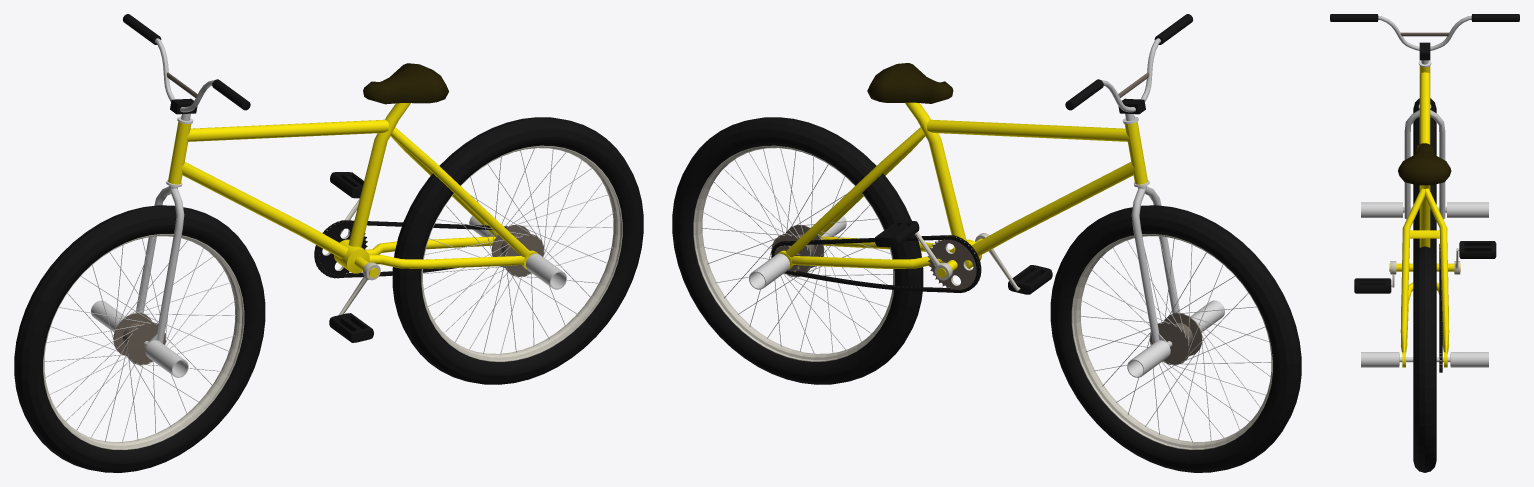
Rendered from xedap.FBX.
3 views of the same model, side by side, from view 1: azimuth 30°, elevation 25°; view 2: azimuth 150°, elevation 25°; view 3: azimuth 270°, elevation 25° (orthographic). The views are drawn at different scales.
Visible parts, largest first — view 1: 3D溜溜网-模型不难找; view 2: 3D溜溜网-模型不难找; view 3: 3D溜溜网-模型不难找.
Part boxes in pixels (bbox=[...]): 3D溜溜网-模型不难找: bbox=[14, 14, 643, 472]; 3D溜溜网-模型不难找: bbox=[672, 14, 1301, 472]; 3D溜溜网-模型不难找: bbox=[1330, 14, 1519, 472].
Size of the model in its own units: 44.35 by 27.34 by 14.72.
